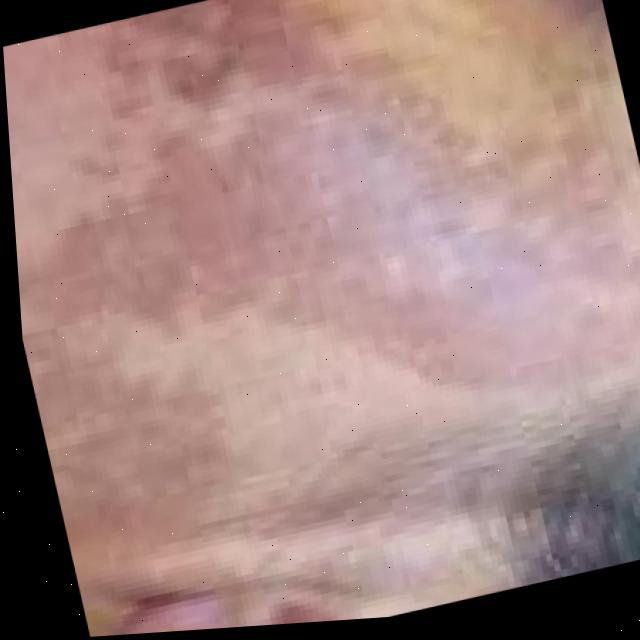Melasma: (82, 0, 625, 448)
